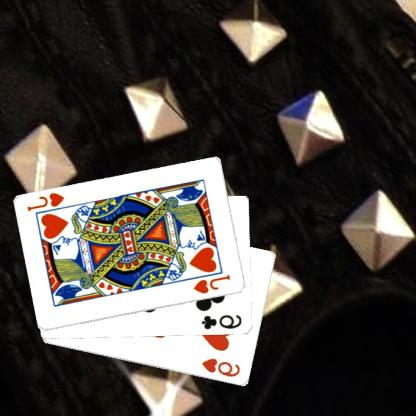6C: (201, 312, 245, 332)
6H: (202, 356, 244, 378)
JH: (192, 272, 233, 295), (27, 190, 68, 213)
